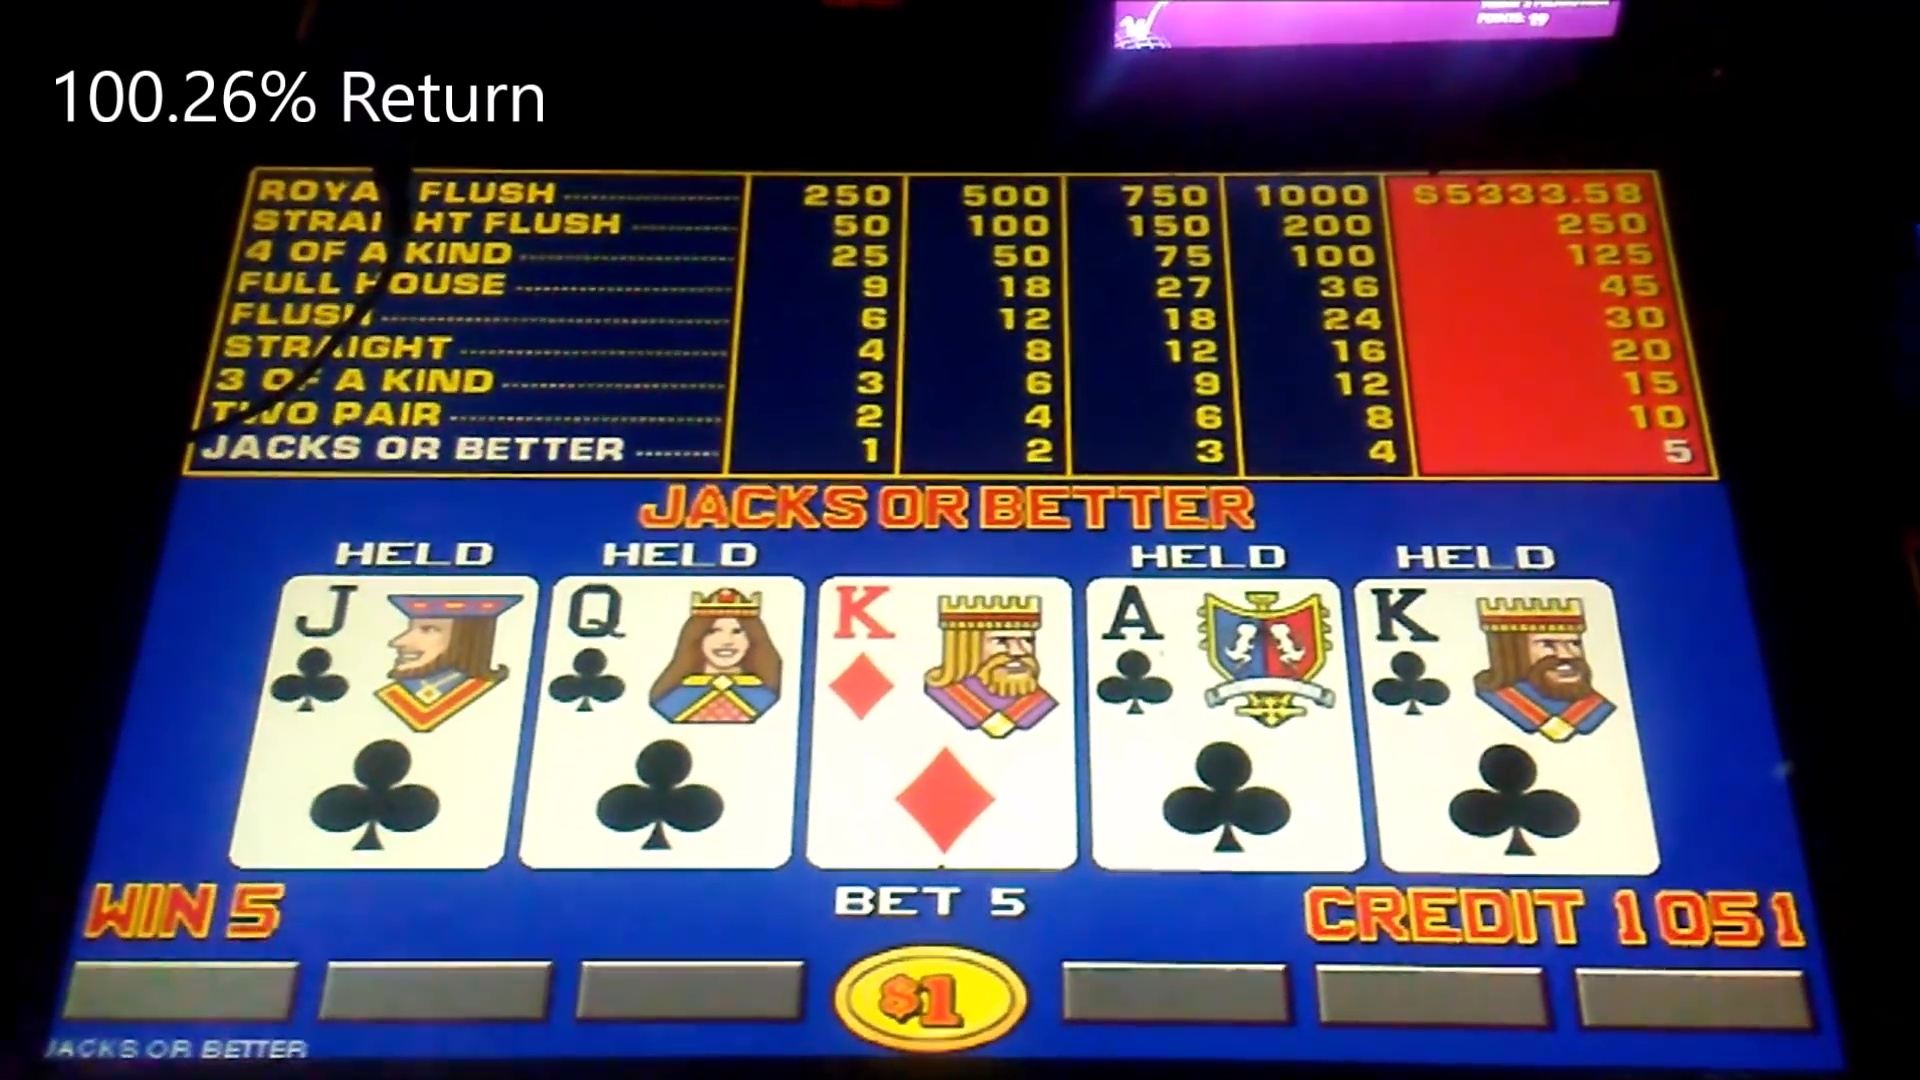CA: (1085, 578, 1346, 870)
CJ: (258, 576, 517, 870)
CK: (1371, 578, 1630, 876)
CQ: (541, 575, 800, 870)
DK: (810, 575, 1075, 872)
